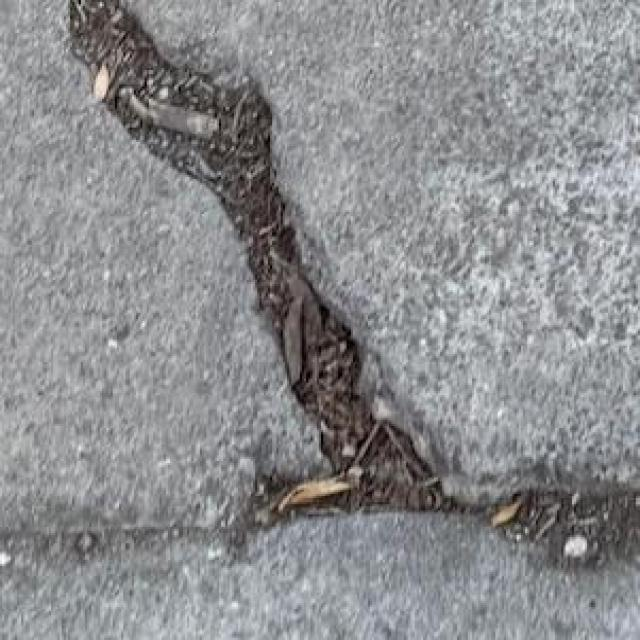hole: (59, 0, 531, 542)
